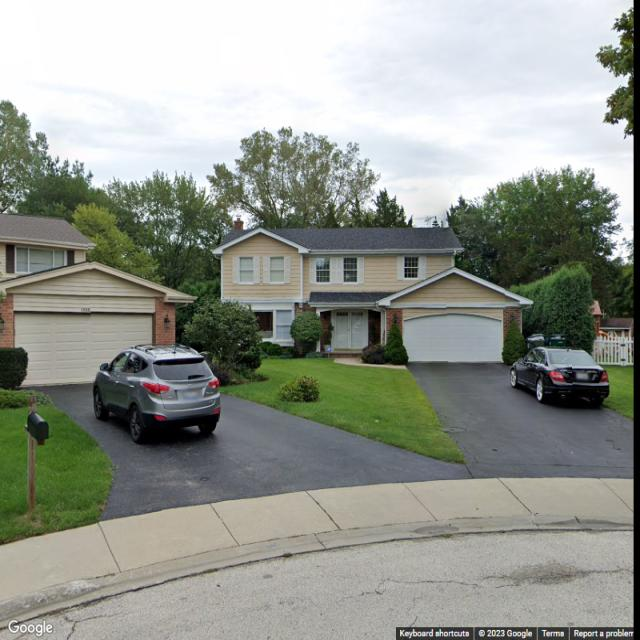House: (212, 213, 534, 362), (0, 215, 197, 386)
